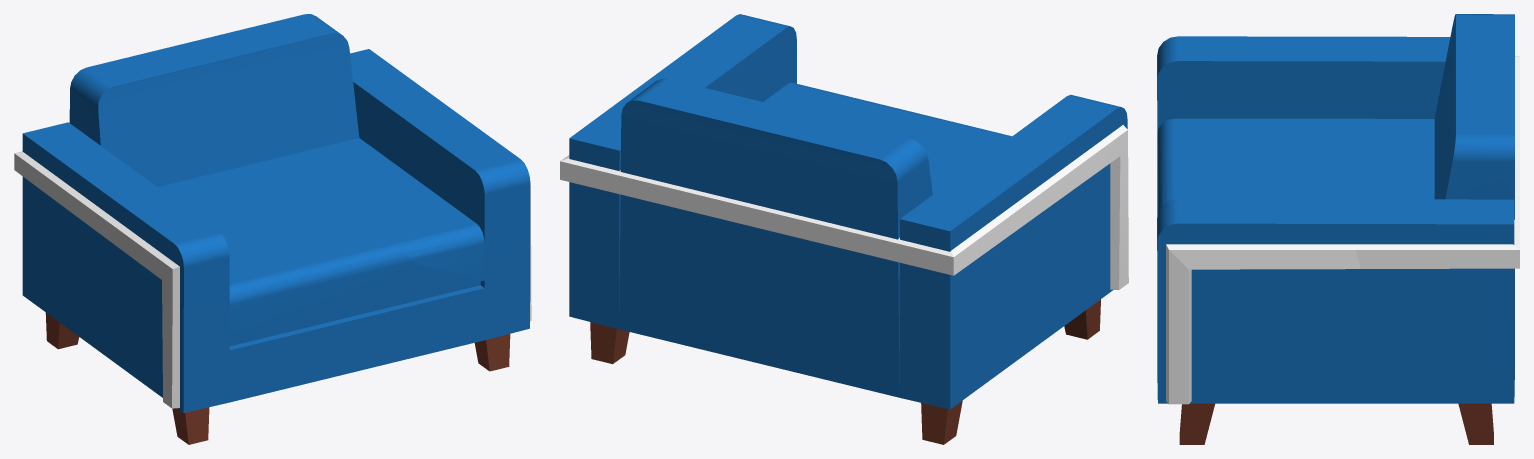
The model's file is chair1 break.fbx.
3 renders of one model, left to right at view 1: azimuth 30°, elevation 25°; view 2: azimuth 150°, elevation 25°; view 3: azimuth 270°, elevation 25°, orthographic. The views are drawn at different scales.
Parts seen in each view (by area): view 1: Chair_01_FRAC10, Chair_01_FRAC6, Chair_01_FRAC4, Chair_01_FRAC14, Chair_01_FRAC12; view 2: Chair_01_FRAC4, Chair_01_FRAC14, Chair_01_FRAC12, Chair_01_FRAC10, Chair_01_FRAC6; view 3: Chair_01_FRAC6, Chair_01_FRAC14, Chair_01_FRAC10, Chair_01_FRAC4, Chair_01_FRAC12.
Part boxes in pixels (bbox=[...]): Chair_01_FRAC10: bbox=[107, 187, 446, 444]; Chair_01_FRAC6: bbox=[318, 101, 531, 371]; Chair_01_FRAC4: bbox=[14, 40, 317, 240]; Chair_01_FRAC14: bbox=[200, 14, 440, 186]; Chair_01_FRAC12: bbox=[22, 122, 167, 357]; Chair_01_FRAC4: bbox=[635, 110, 1065, 397]; Chair_01_FRAC14: bbox=[560, 78, 797, 364]; Chair_01_FRAC12: bbox=[899, 138, 1066, 444]; Chair_01_FRAC10: bbox=[859, 94, 1128, 340]; Chair_01_FRAC6: bbox=[649, 14, 882, 125]; Chair_01_FRAC6: bbox=[1157, 199, 1386, 444]; Chair_01_FRAC14: bbox=[1349, 70, 1519, 444]; Chair_01_FRAC10: bbox=[1157, 36, 1347, 215]; Chair_01_FRAC4: bbox=[1307, 14, 1519, 199]; Chair_01_FRAC12: bbox=[1280, 36, 1450, 118].
Bounding box in the file's own units: 133 × 89.35 × 104.
1 material, 1 textured.
